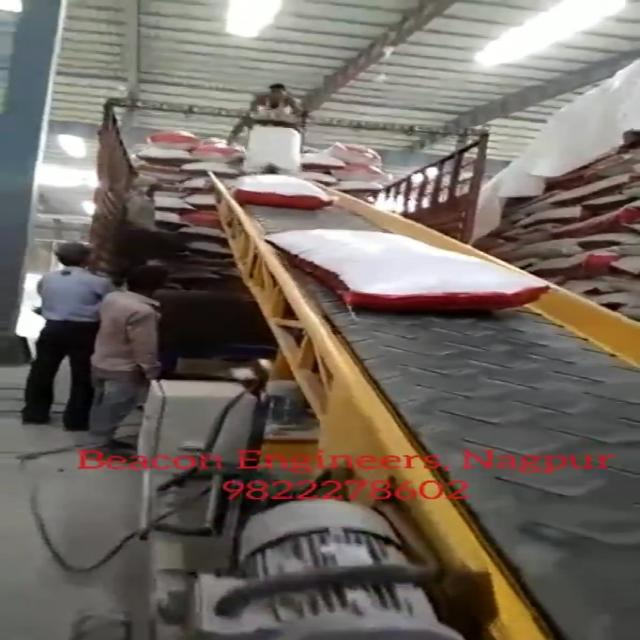Convoyeur: (207, 154, 640, 640)
